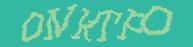0: (20, 12, 44, 41)
O: (140, 6, 172, 35)
T: (94, 10, 121, 40)
V: (48, 5, 77, 37)
k: (71, 9, 99, 40)
l: (43, 8, 53, 39)
p: (115, 9, 147, 39)
